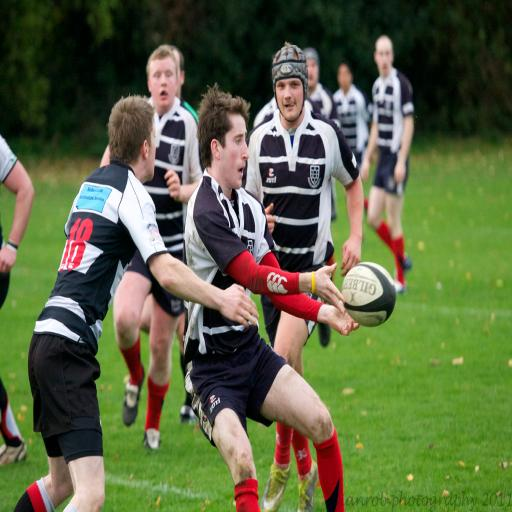Person: (18, 144, 170, 426), (178, 147, 328, 429), (250, 112, 358, 311), (368, 102, 424, 259)
no_gloves: (216, 275, 264, 310), (311, 278, 359, 313), (302, 253, 350, 287)
no_goggle: (221, 173, 255, 185), (272, 138, 306, 150), (144, 128, 178, 140), (372, 114, 405, 126)
no_helmet: (260, 106, 308, 143), (135, 93, 182, 130), (366, 93, 412, 130), (200, 134, 247, 170), (108, 140, 154, 176)
none: (51, 194, 151, 317), (258, 162, 350, 284), (191, 206, 267, 322), (370, 131, 412, 209)
